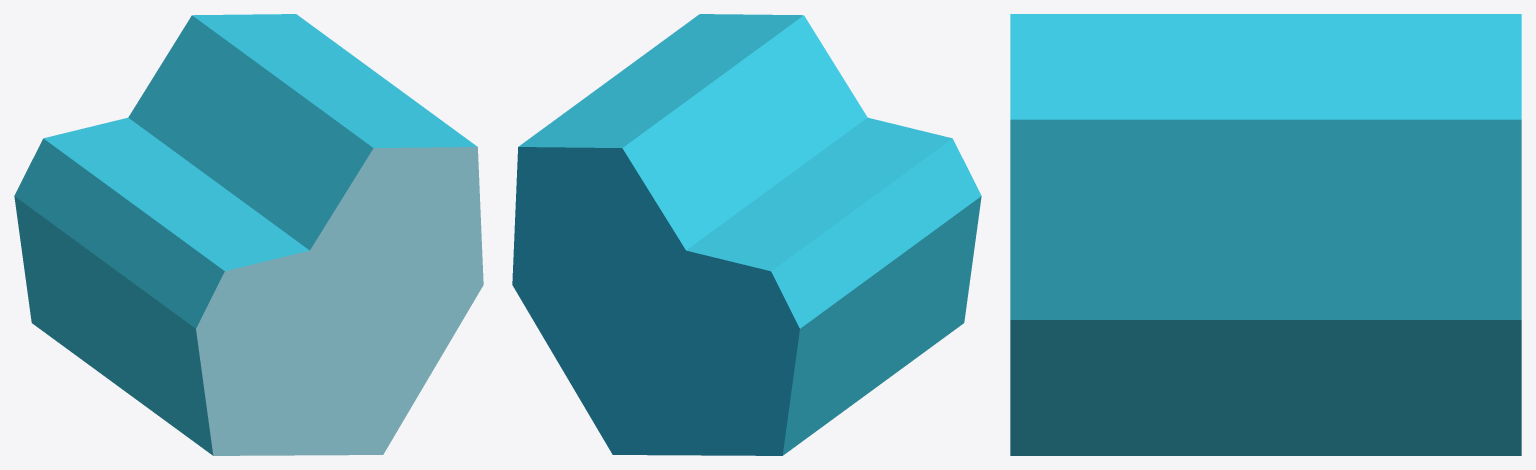
Rendered from D_FBX_07_DesT_Wall_10.fbx.
The picture shows the model from 3 angles, left to right: view 1: azimuth 30°, elevation 25°; view 2: azimuth 150°, elevation 25°; view 3: azimuth 270°, elevation 25°; orthographic projection. The views are drawn at different scales.
Parts seen in each view (by area): view 1: D_FBX_07_DesT_Wall_10; view 2: D_FBX_07_DesT_Wall_10; view 3: D_FBX_07_DesT_Wall_10.
Boxes of the visible parts, bbox=[...] form: D_FBX_07_DesT_Wall_10: bbox=[14, 14, 483, 455]; D_FBX_07_DesT_Wall_10: bbox=[512, 14, 981, 455]; D_FBX_07_DesT_Wall_10: bbox=[1010, 14, 1521, 455].
Size of the model in its own units: 103 by 106 by 112.
